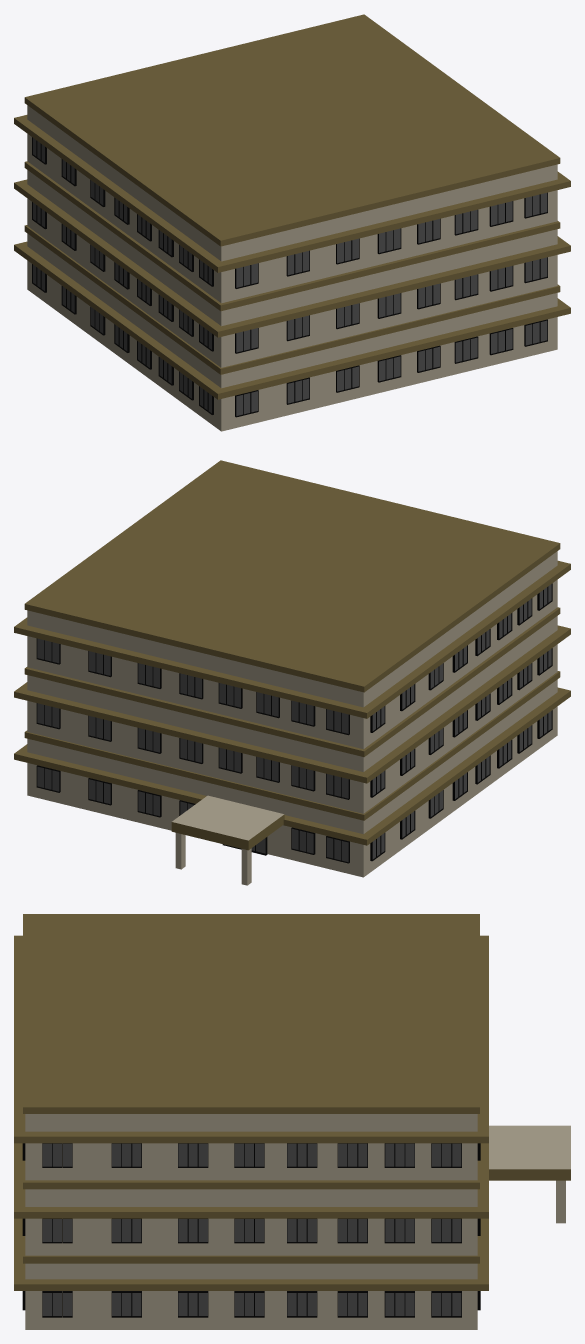
3 renders of one model, top to bottom at view 1: azimuth 30°, elevation 25°; view 2: azimuth 150°, elevation 25°; view 3: azimuth 270°, elevation 25°, orthographic. The views are drawn at different scales.
Visible parts, largest first — view 1: polySurface60, polySurface38, polySurface137, polySurface236, polySurface136, polySurface37, polySurface331, polySurface159, polySurface258; view 2: polySurface60, polySurface38, polySurface137, polySurface236, polySurface136, polySurface37, polySurface331, polySurface159, polySurface258, pCube9; view 3: polySurface60, polySurface38, polySurface137, polySurface236, polySurface37, polySurface136, polySurface331, polySurface159, pCube9, polySurface258.
Part boxes in pixels (<box>): polySurface60: <box>24,14,560,246</box>; polySurface38: <box>27,105,557,303</box>; polySurface137: <box>27,170,557,367</box>; polySurface236: <box>27,233,557,431</box>; polySurface136: <box>14,179,570,337</box>; polySurface37: <box>14,115,570,272</box>; polySurface331: <box>14,241,570,399</box>; polySurface159: <box>24,161,560,311</box>; polySurface258: <box>24,225,560,374</box>; polySurface60: <box>24,460,560,692</box>; polySurface38: <box>27,551,557,749</box>; polySurface137: <box>27,616,557,813</box>; polySurface236: <box>27,679,557,877</box>; polySurface136: <box>14,625,570,783</box>; polySurface37: <box>14,560,570,718</box>; polySurface331: <box>14,687,570,845</box>; polySurface159: <box>24,607,560,756</box>; polySurface258: <box>24,671,560,820</box>; pCube9: <box>171,795,284,850</box>; polySurface60: <box>23,914,479,1113</box>; polySurface38: <box>25,1114,477,1180</box>; polySurface137: <box>25,1189,477,1255</box>; polySurface236: <box>25,1263,477,1329</box>; polySurface37: <box>14,935,488,1143</box>; polySurface136: <box>14,1143,488,1218</box>; polySurface331: <box>14,1218,488,1290</box>; polySurface159: <box>23,1160,479,1189</box>; pCube9: <box>489,1125,570,1180</box>; polySurface258: <box>23,1236,479,1263</box>.
Size of the model in its own units: 3.15 by 1.64 by 3.69.
